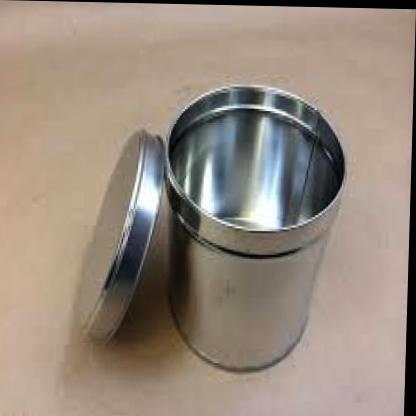trash: (80, 85, 344, 370), (167, 86, 344, 370)
